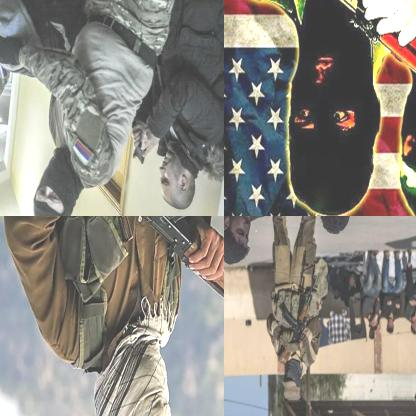rifle: (251, 0, 415, 162), (90, 216, 223, 362), (278, 276, 321, 353)
